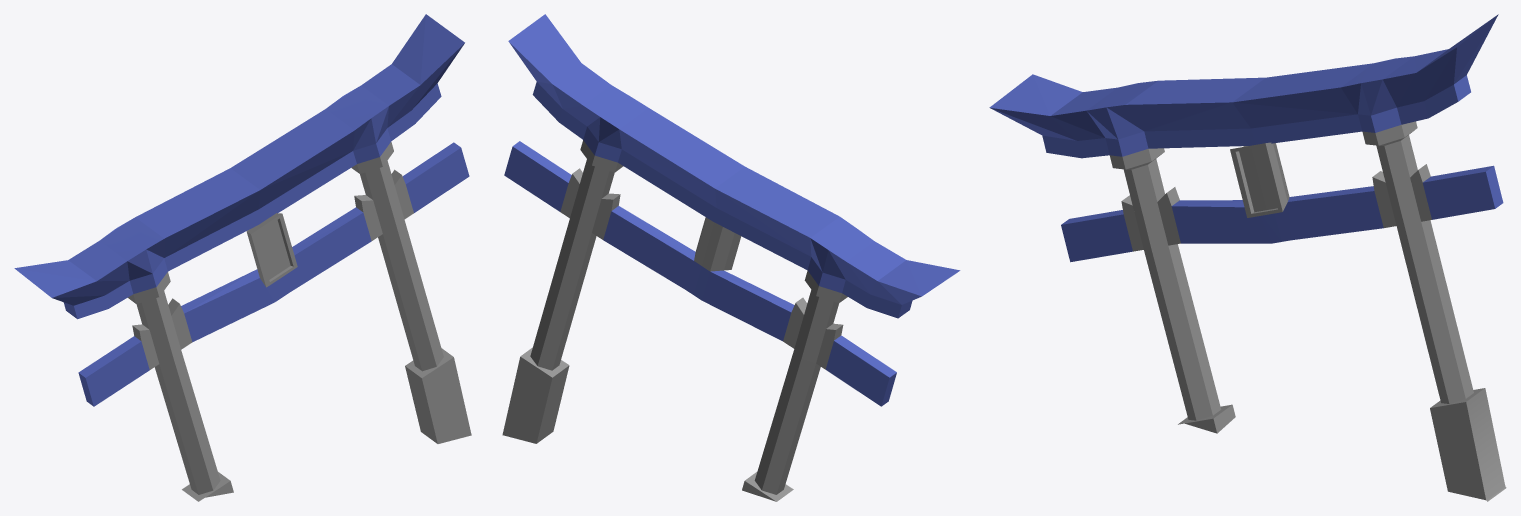
The model's file is torri_1 alt.FBX.
3 views of the same model, side by side, from view 1: azimuth 30°, elevation 25°; view 2: azimuth 150°, elevation 25°; view 3: azimuth 330°, elevation 25° (orthographic). The views are drawn at different scales.
Visible parts, largest first — view 1: Box004; view 2: Box004; view 3: Box004.
Boxes of the visible parts, x1,y1,x2,y2 form: Box004: [14, 14, 471, 501]; Box004: [502, 14, 960, 501]; Box004: [989, 14, 1506, 501].
Bounding box in the file's own units: 356 × 320 × 54.36.
